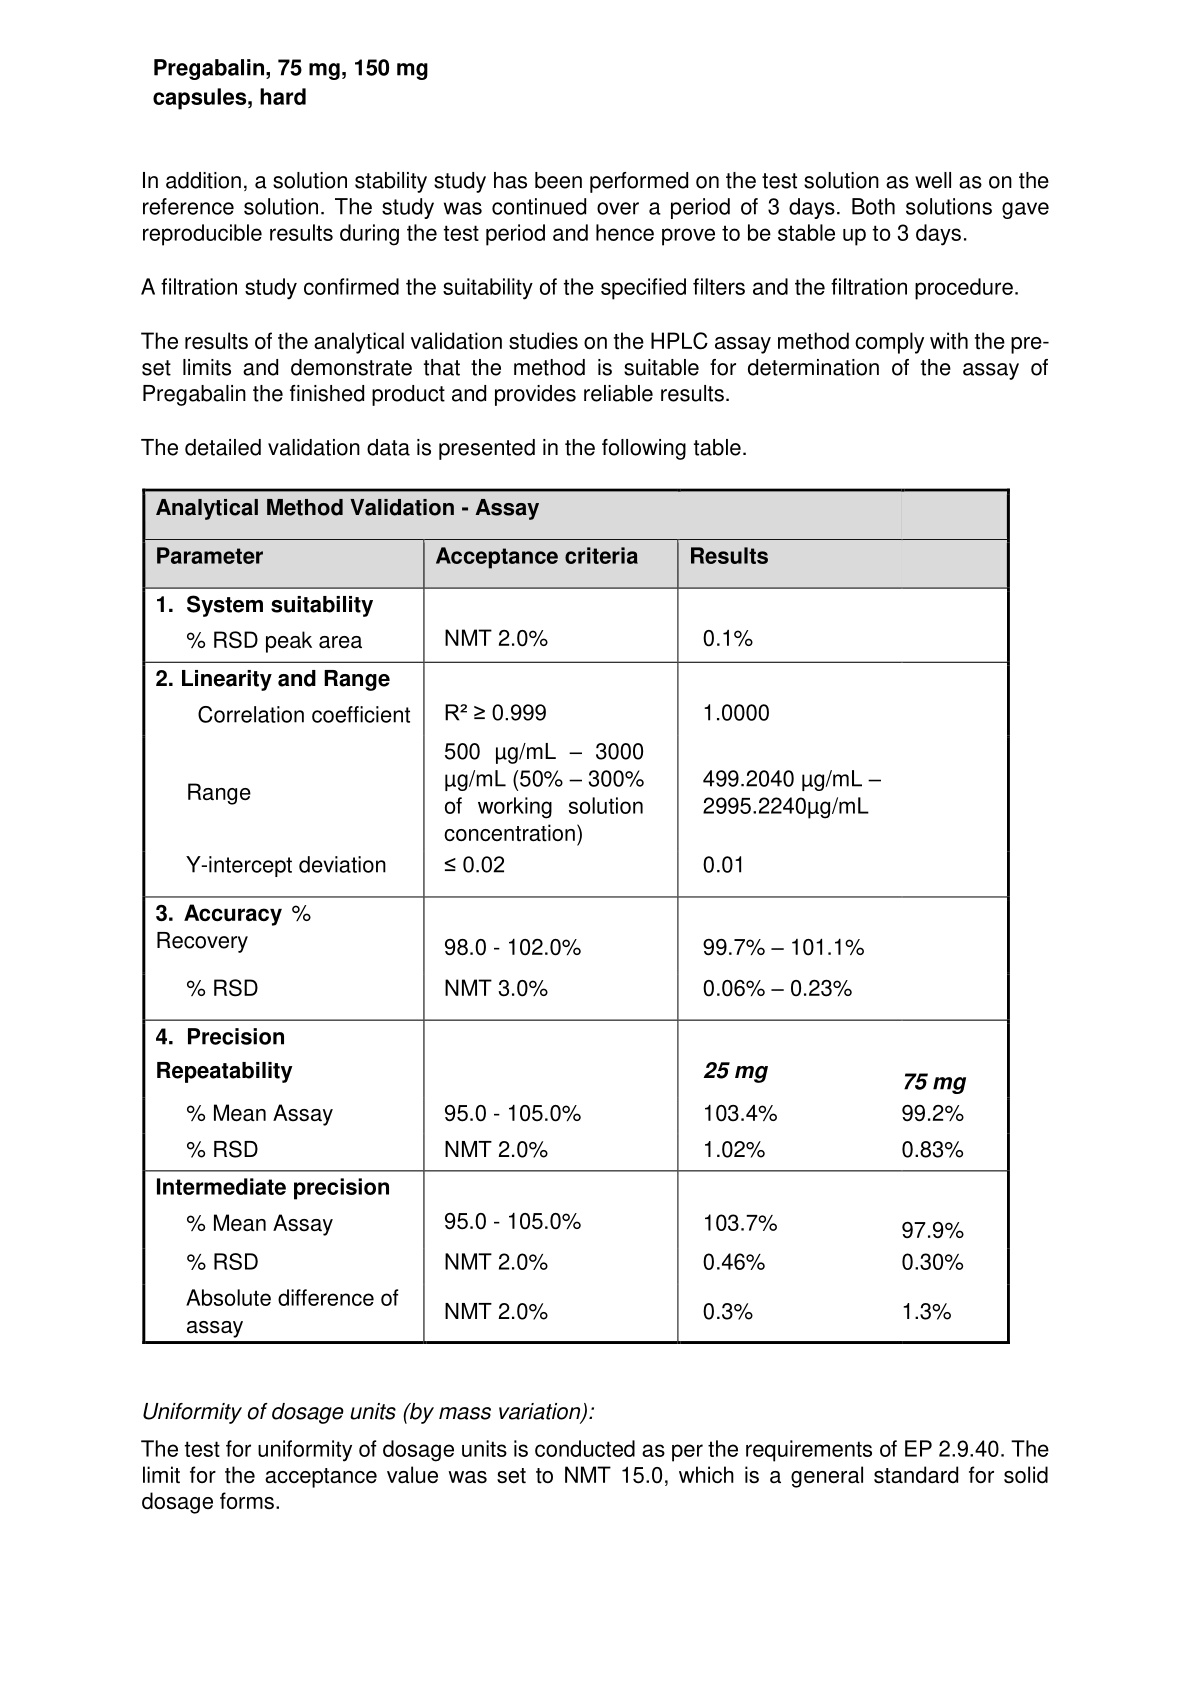merged_cells: (140, 489, 1011, 1345)
